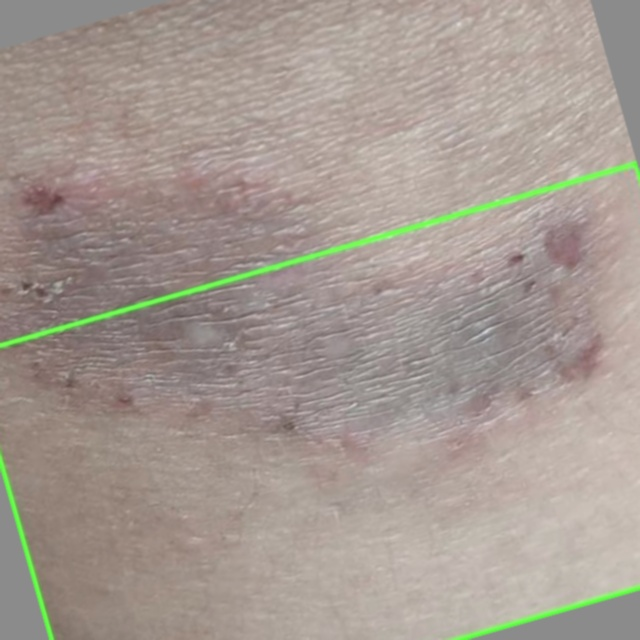Tinea Corporis: (0, 163, 639, 639)
